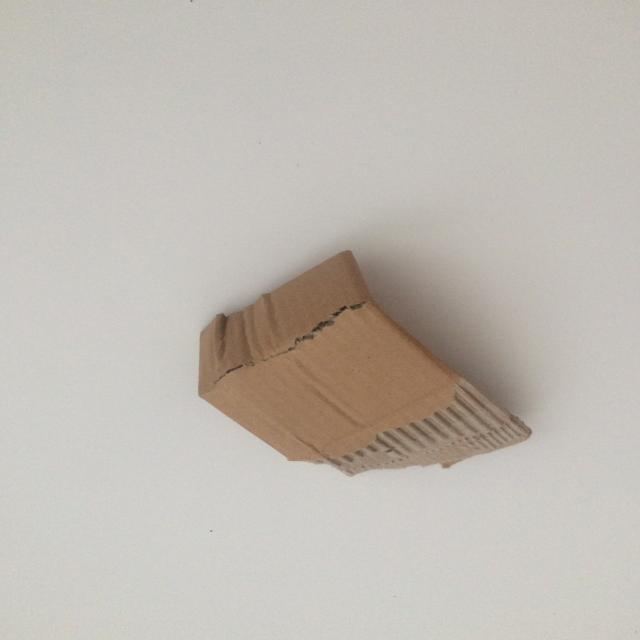cardboard: (197, 248, 533, 476)
